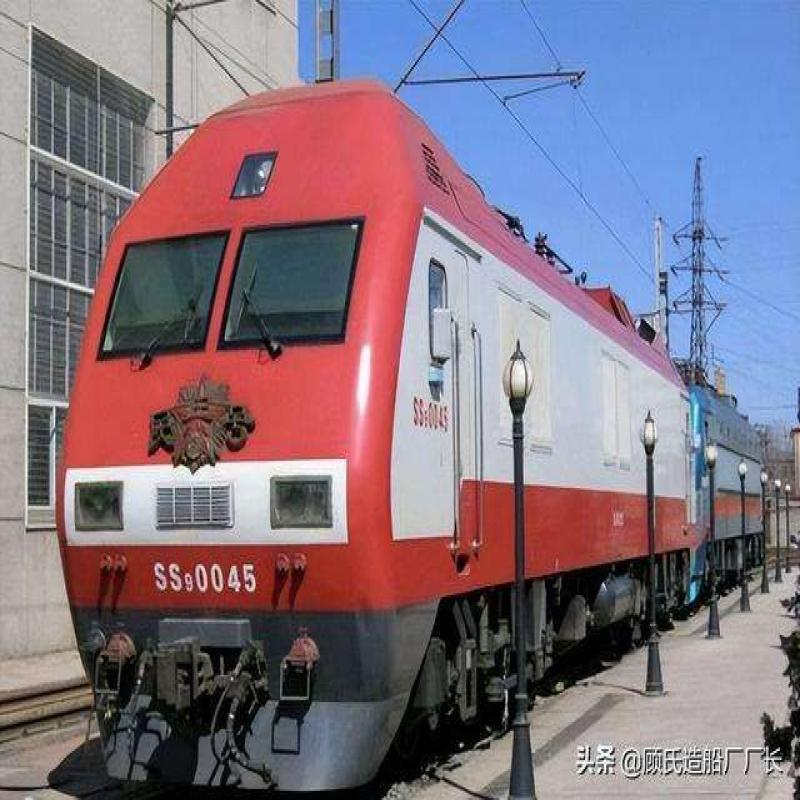train: (92, 106, 776, 741)
